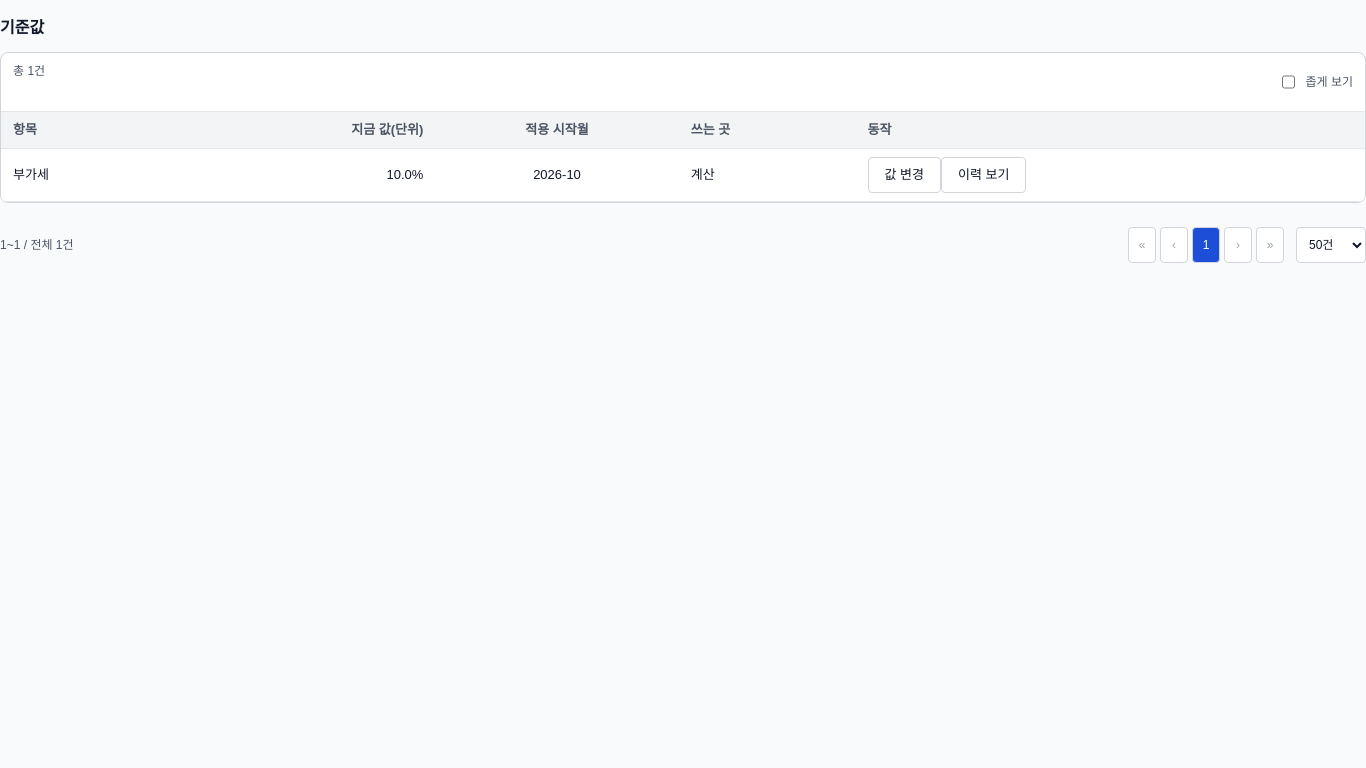
user-facing UI contract drift › shows a server month error beside the month input, focuses it, and preserves the form
Step 1. Click the button "값 변경" → {"x": 904, "y": 175}, box [868,157,941,193]
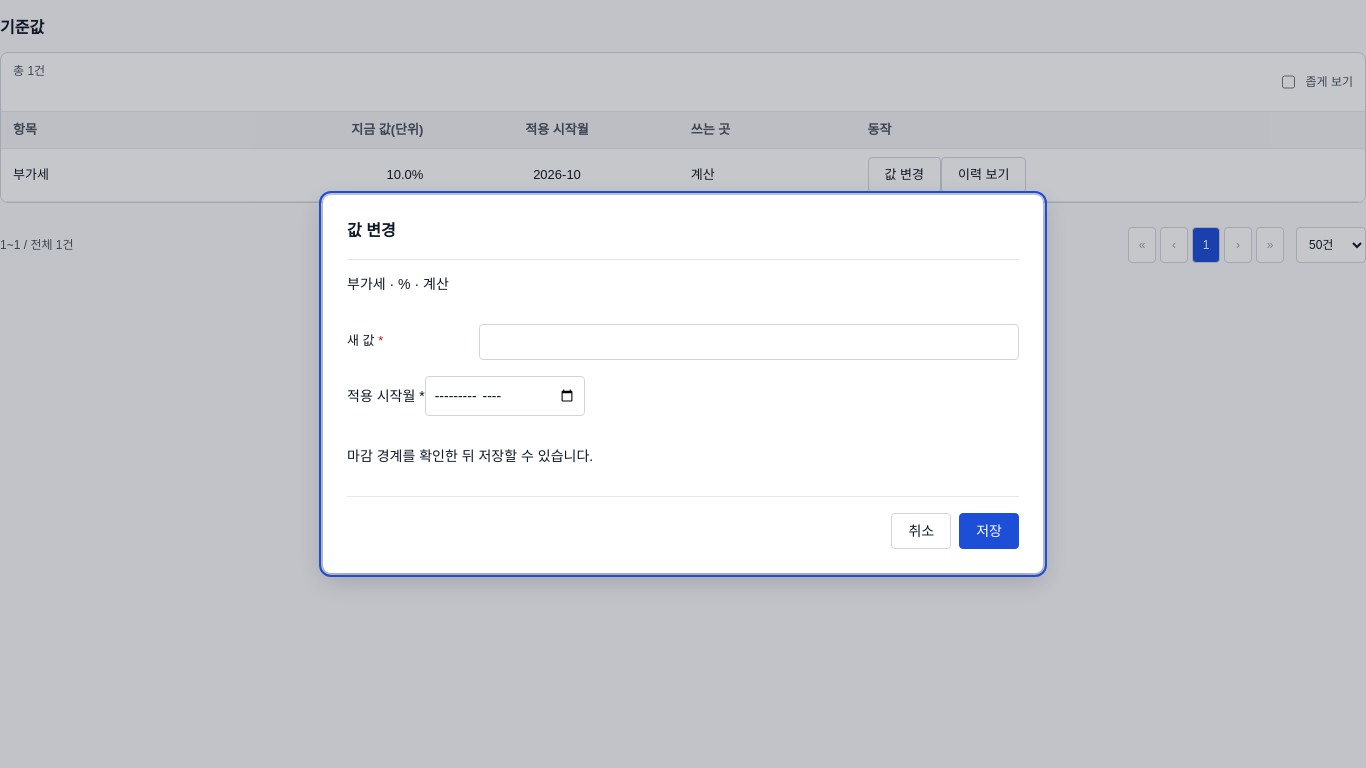
Result: the button "저장" is enabled at [959,513,1019,549]
Step 2. Type "11" into the field labelled "새 값" → {"x": 749, "y": 342}, box [479,324,1019,360]
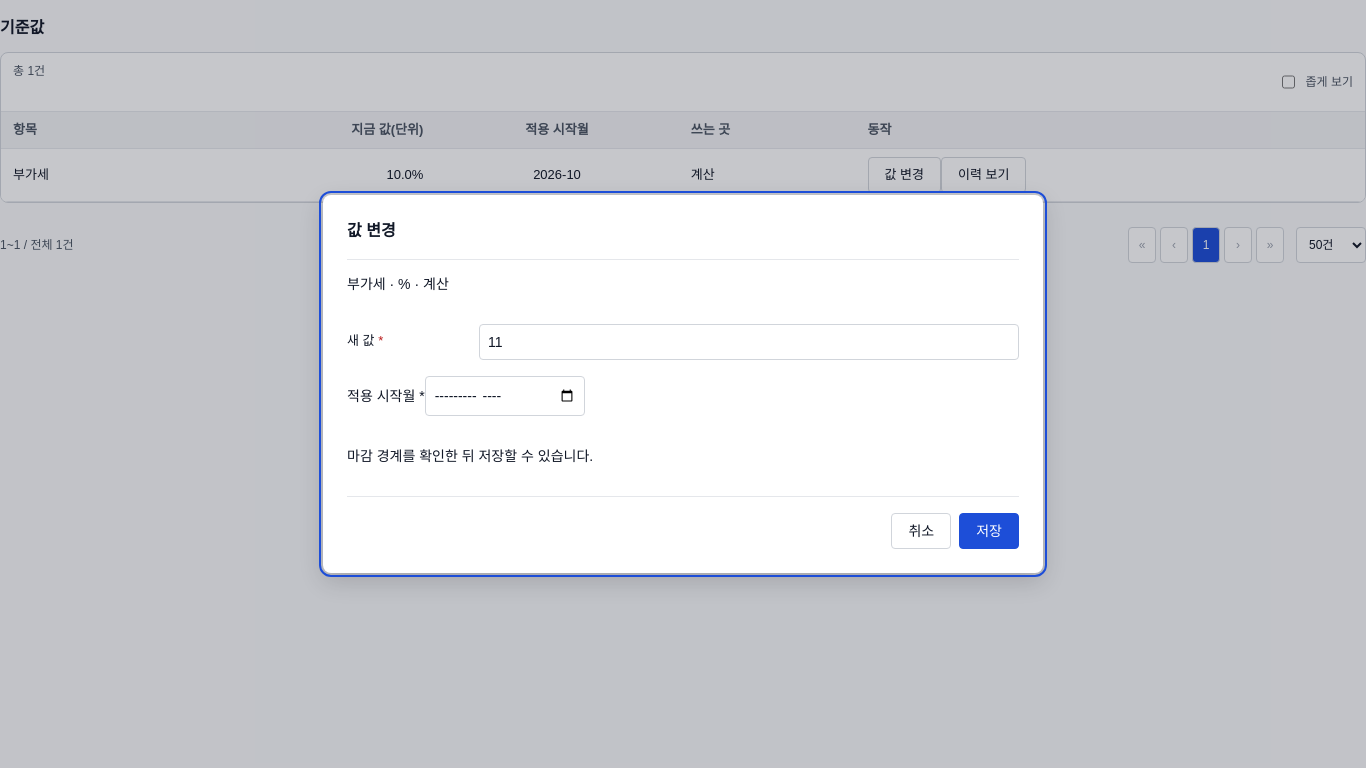
Step 3. Type "2026-11" into the field labelled "적용 시작월" → {"x": 505, "y": 396}, box [425,376,585,416]
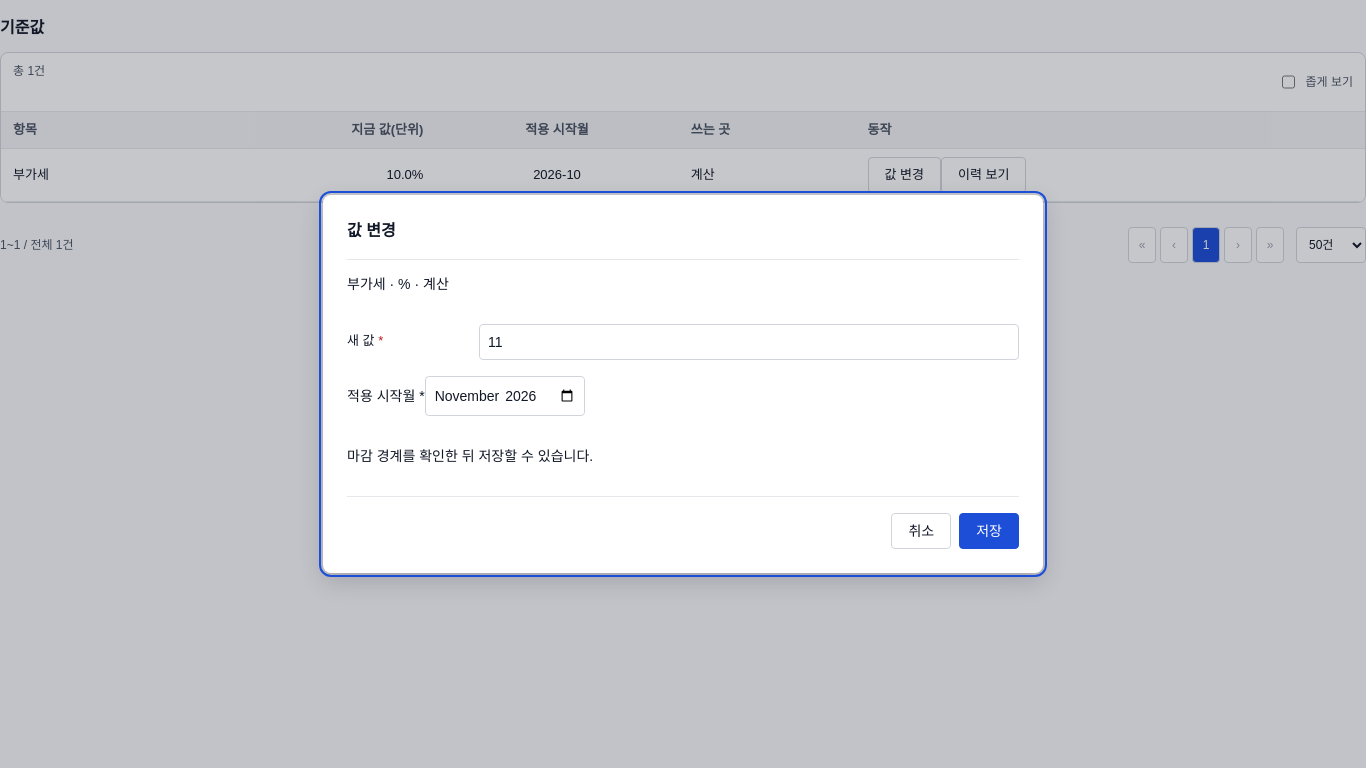
Step 4. Click the button "저장" → {"x": 989, "y": 531}, box [959,513,1019,549]
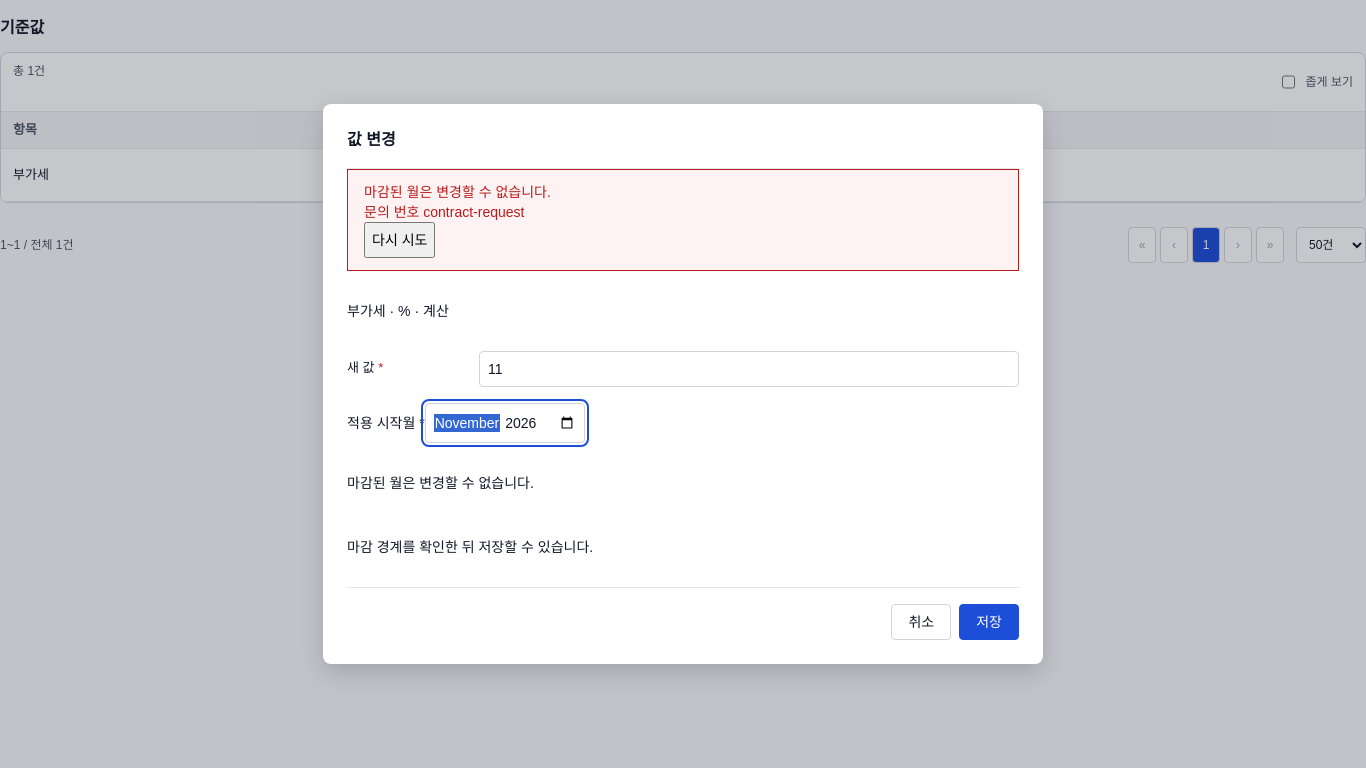
Result: the dialog is shown at [323,104,1043,664]
Result: the text "문의 번호 contract-request" is shown at [364,204,524,220]
